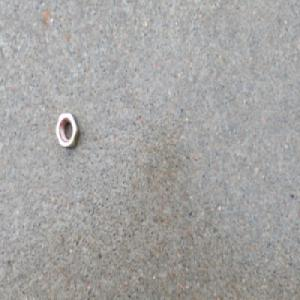Nut: (54, 111, 79, 150)
